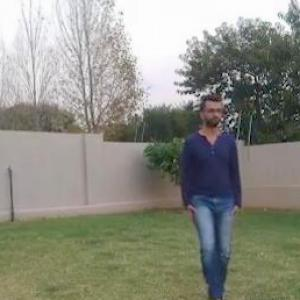follow: (185, 84, 243, 299)
